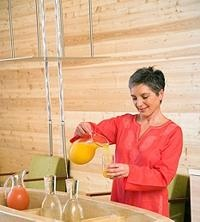person without safety: (111, 65, 177, 210)
